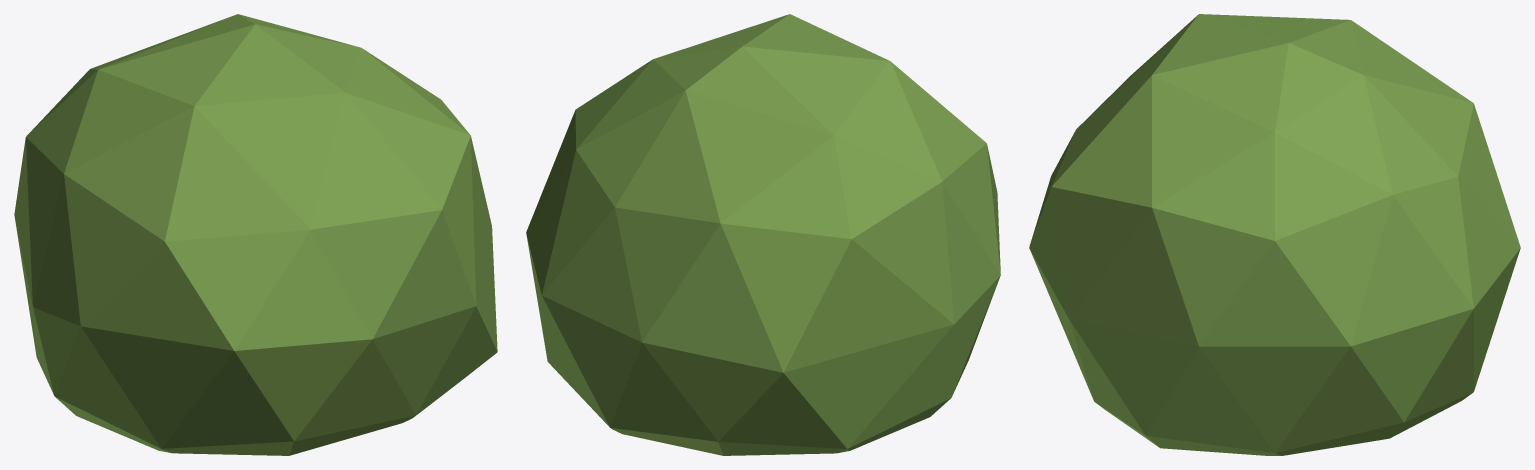
File: bush1blank.glb
The picture shows the model from 3 angles, left to right: view 1: azimuth 30°, elevation 25°; view 2: azimuth 150°, elevation 25°; view 3: azimuth 270°, elevation 25°; orthographic projection. The views are drawn at different scales.
Parts seen in each view (by area): view 1: bush; view 2: bush; view 3: bush.
Boxes of the visible parts, left/top/right/bottom form: bush: left=14, top=14, right=497, bottom=455; bush: left=526, top=14, right=1000, bottom=455; bush: left=1029, top=14, right=1520, bottom=455.
Bounding box in the file's own units: 1.9 × 1.51 × 2.
